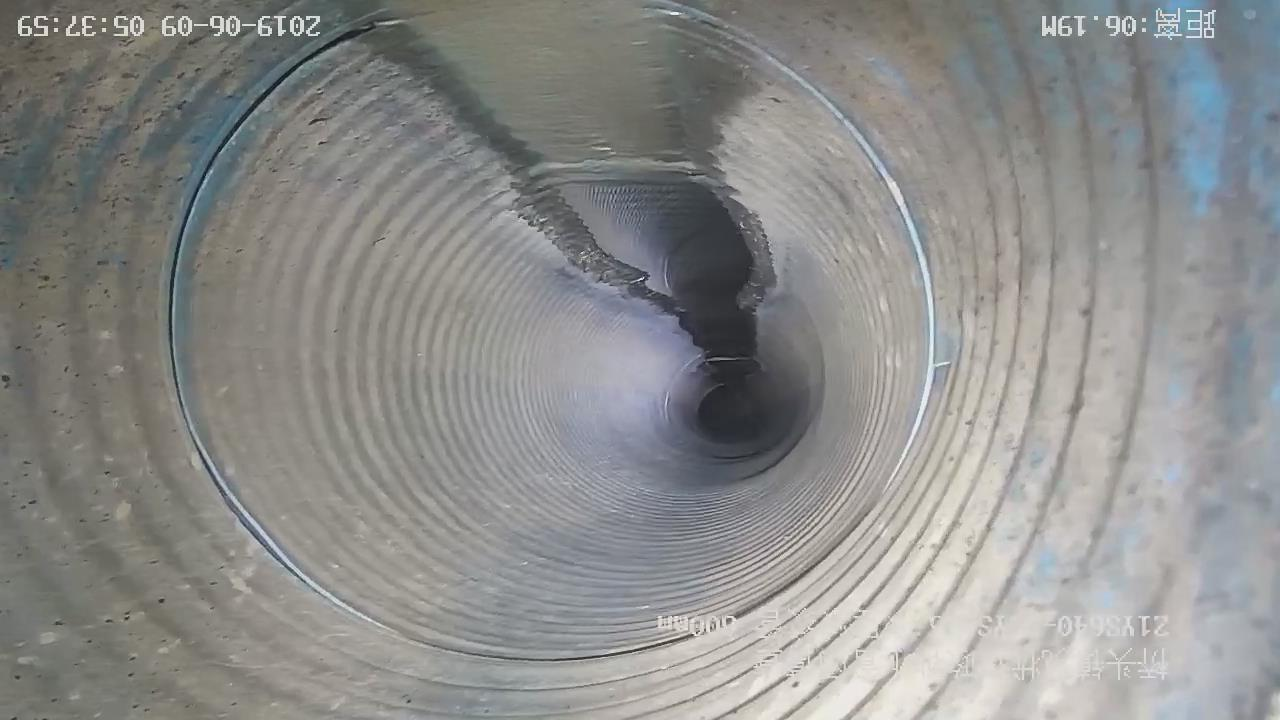CKTJ: (154, 1, 945, 671)
